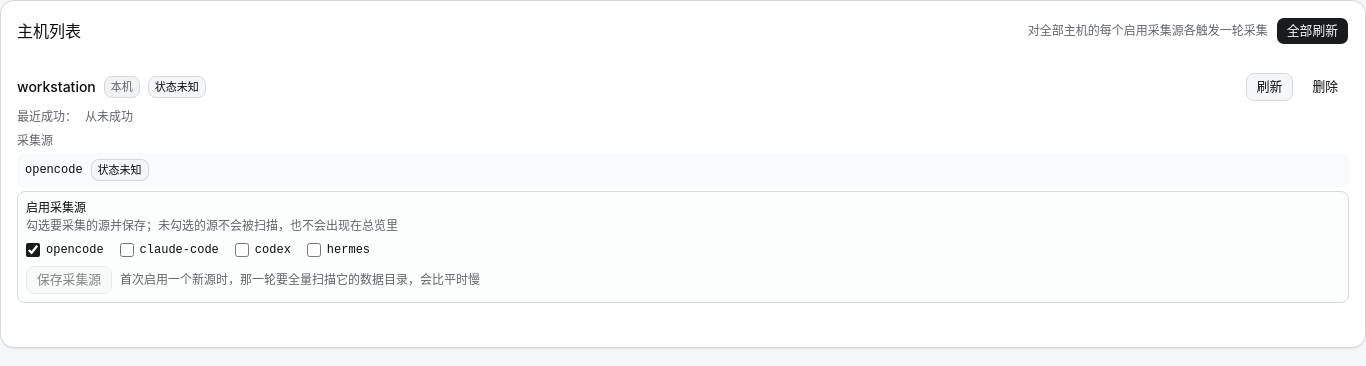
Scenario: HostList 采集源勾选 › 全部取消勾选被前端拦下，一次 IPC 都不发
What coordinates should you click on to do the following:
click the checkbox labelled "opencode"
I would click on:
 (33, 250)
Its box is [26,243,40,257].
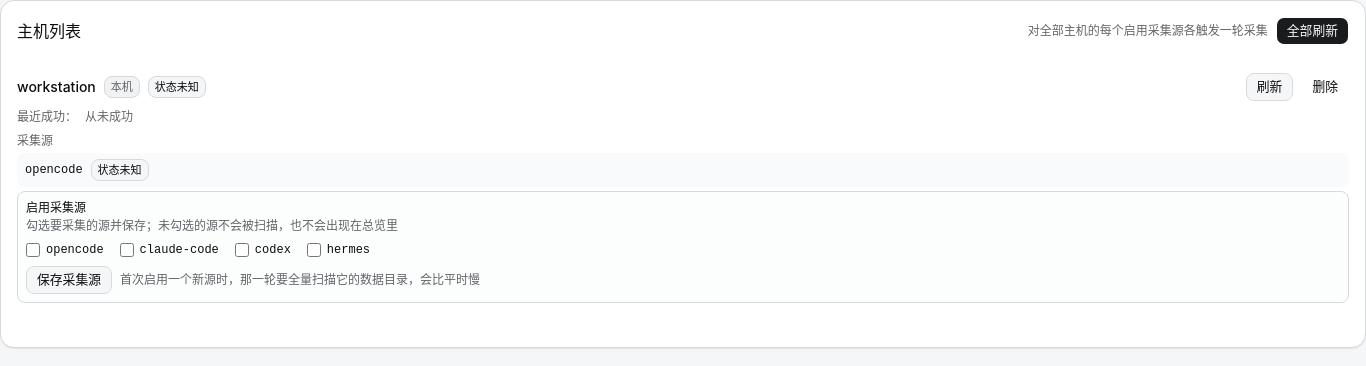
What coordinates should you click on to do the following:
click the button with test id "host-sources-save-local-host-000001"
I would click on:
 (69, 280)
Its box is [26,266,112,294].
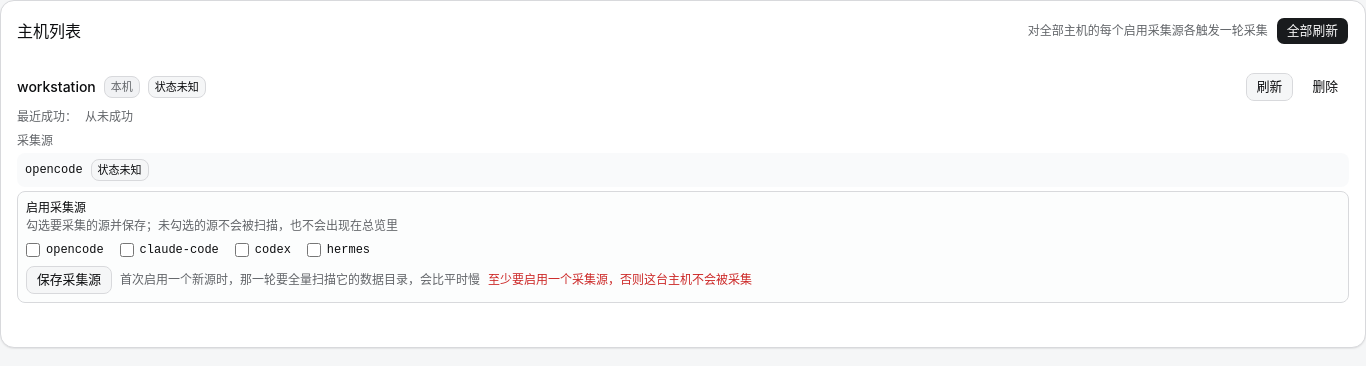
Expected: the message with test id "host-sources-validation-local-host-000001" reads "至少要启用一个采集源，否则这台主机不会被采集", [488,272,752,287]
